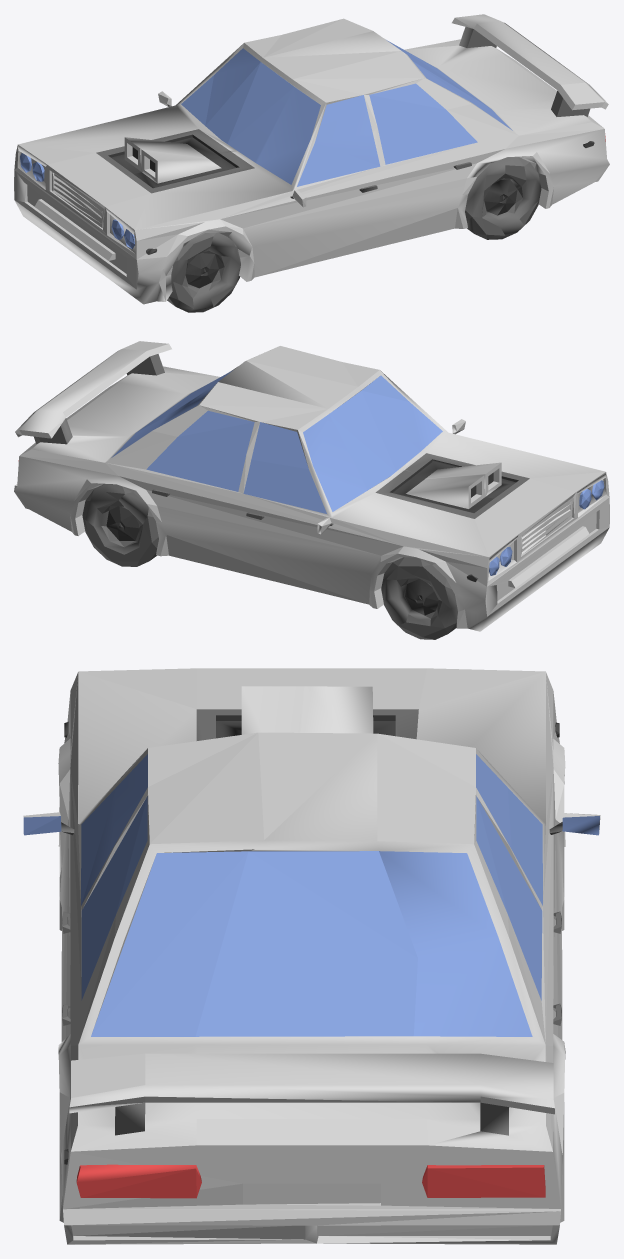
Rendered from car__default.glb.
3 renders of one model, top to bottom at view 1: azimuth 30°, elevation 25°; view 2: azimuth 150°, elevation 25°; view 3: azimuth 270°, elevation 25°, orthographic. The views are drawn at different scales.
Visible parts, largest first — view 1: Машины.002; view 2: Машины.002; view 3: Машины.002.
Part boxes in pixels (left/top/right/bottom): Машины.002: left=14, top=14, right=609, bottom=312; Машины.002: left=14, top=341, right=609, bottom=639; Машины.002: left=23, top=668, right=600, bottom=1244.
Bounding box in the file's own units: 5.35 × 1.79 × 2.8.
